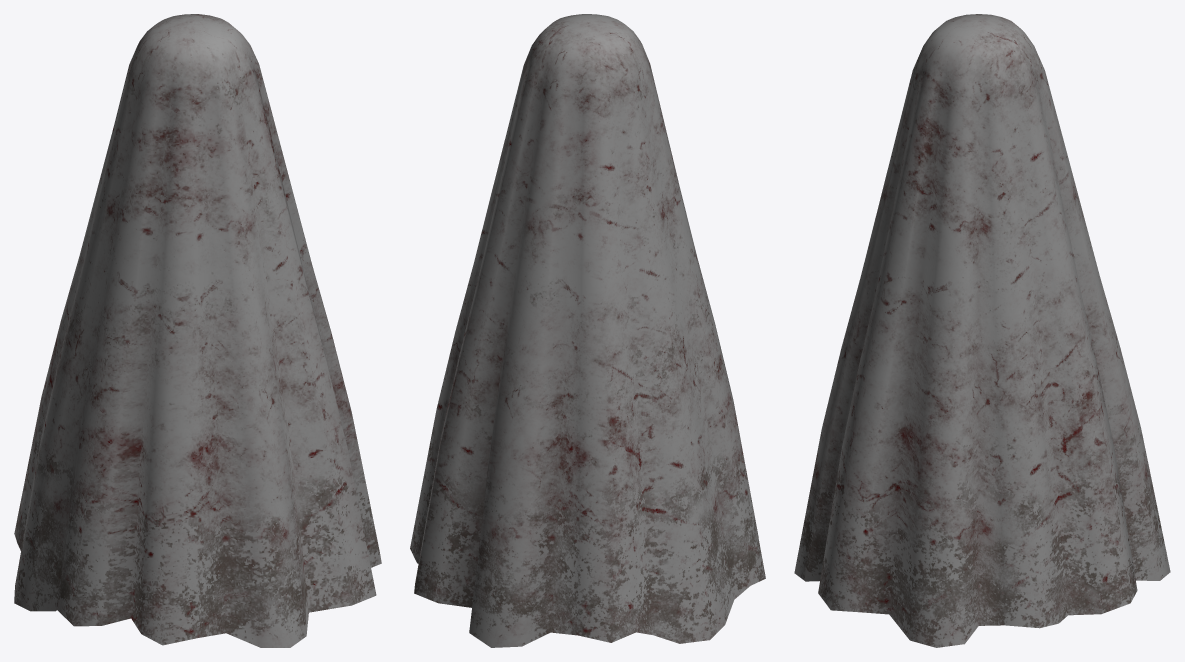
The model's file is ghost_FINAL.fbx.
The picture shows the model from 3 angles, left to right: view 1: azimuth 30°, elevation 25°; view 2: azimuth 150°, elevation 25°; view 3: azimuth 270°, elevation 25°; orthographic projection.
Parts seen in each view (by area): view 1: pCylinder1; view 2: pCylinder1; view 3: pCylinder1.
Boxes of the visible parts, x1,y1,x2,y2 form: pCylinder1: [14, 14, 381, 647]; pCylinder1: [410, 14, 765, 647]; pCylinder1: [794, 14, 1170, 647].
Bounding box in the file's own units: 106 × 182 × 111.
